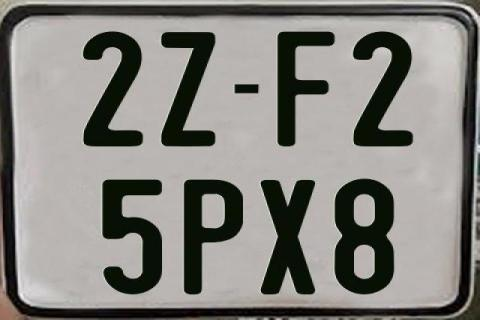0: (99, 180, 163, 298), (83, 30, 144, 148), (353, 29, 413, 147), (332, 177, 392, 295)
F: (277, 30, 339, 148)
P: (181, 178, 242, 298)
X: (259, 178, 315, 292)
Z: (159, 30, 213, 146)
